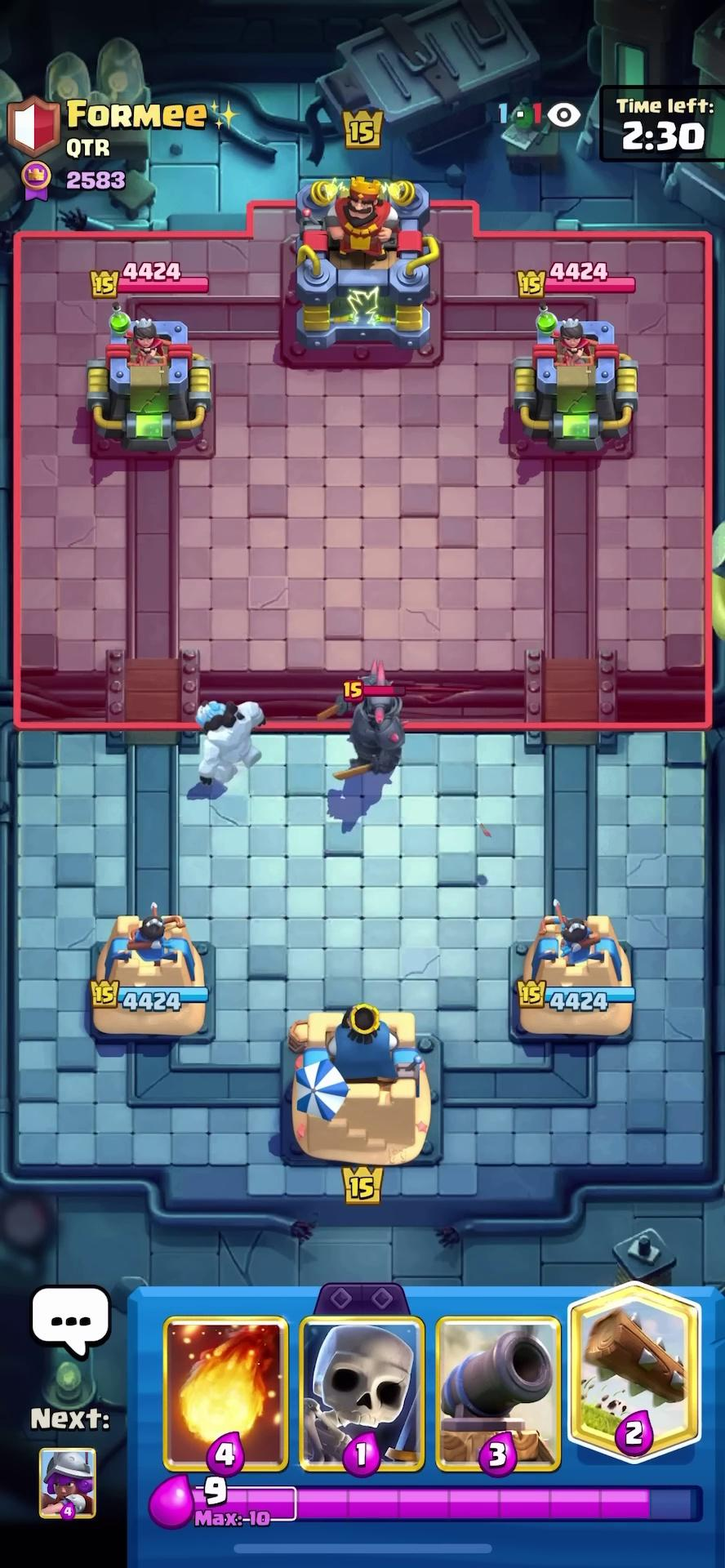ice_golem: (171, 668, 292, 784)
